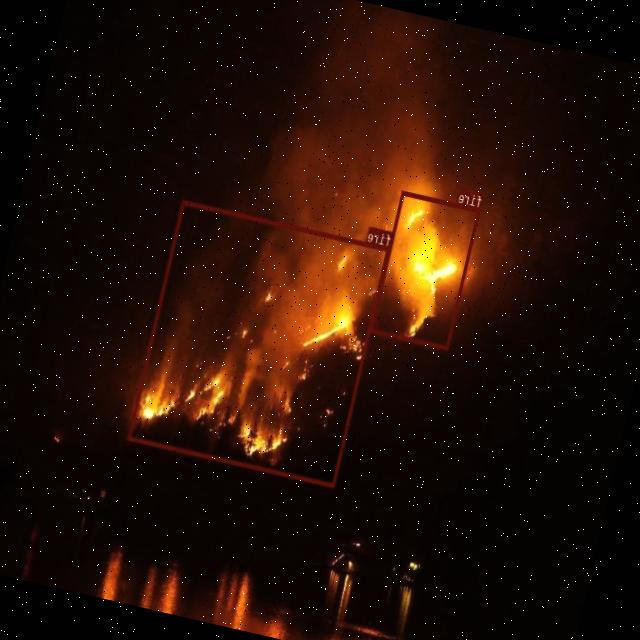fire: (127, 198, 390, 488), (370, 190, 481, 349)
